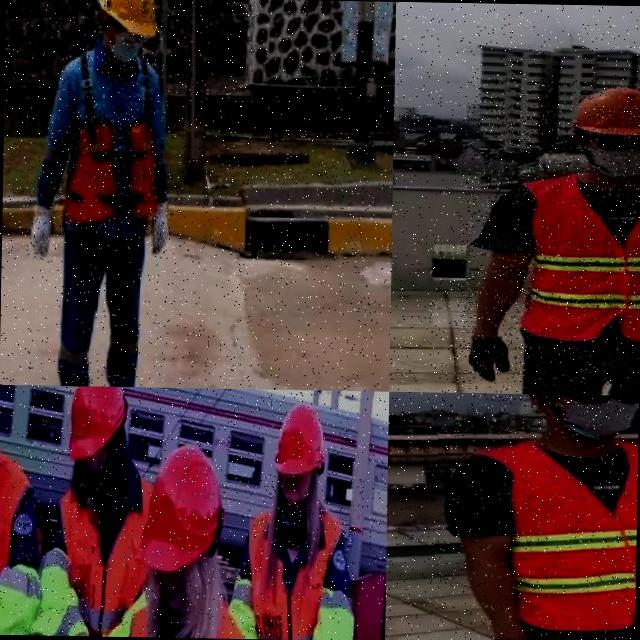helmet: (142, 444, 222, 568), (558, 78, 640, 138), (66, 386, 128, 462), (273, 404, 327, 474), (95, 0, 163, 39)
vest: (495, 438, 638, 632), (52, 54, 164, 230), (524, 173, 640, 342), (52, 476, 148, 637), (240, 501, 342, 640), (0, 447, 45, 635)
